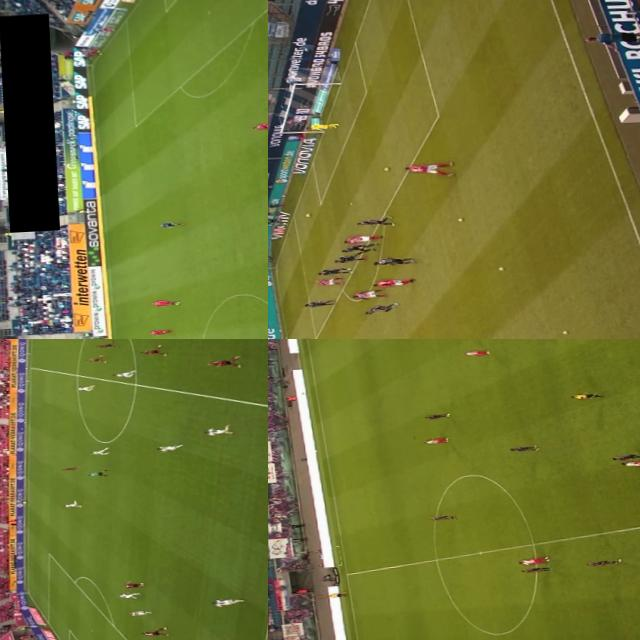ball: (560, 330, 568, 335), (134, 582, 144, 586), (455, 218, 463, 222), (304, 212, 312, 216), (498, 266, 503, 270), (382, 167, 388, 170), (301, 338, 307, 339)
player: (404, 164, 452, 177), (364, 301, 399, 315), (206, 356, 242, 368), (372, 278, 413, 288), (350, 288, 384, 300), (208, 596, 246, 606), (586, 558, 624, 568), (149, 299, 180, 311), (344, 234, 381, 244), (338, 244, 374, 254), (372, 258, 412, 267), (138, 347, 166, 358), (137, 627, 165, 638), (355, 218, 393, 226), (332, 253, 362, 263), (200, 426, 230, 436), (608, 452, 638, 462), (314, 268, 350, 276), (504, 445, 538, 453), (514, 556, 548, 564), (156, 442, 182, 452), (306, 122, 338, 130), (304, 300, 334, 308), (422, 436, 448, 445), (520, 566, 548, 574), (157, 221, 183, 229), (314, 278, 340, 286), (110, 371, 136, 379), (116, 592, 140, 600), (70, 385, 96, 392), (462, 351, 488, 358), (146, 328, 168, 336), (90, 448, 108, 457), (60, 464, 78, 473), (620, 459, 640, 467), (95, 342, 117, 348), (59, 502, 81, 508), (253, 122, 268, 130), (427, 516, 451, 521), (118, 584, 146, 588), (422, 414, 450, 418), (130, 611, 152, 616)
